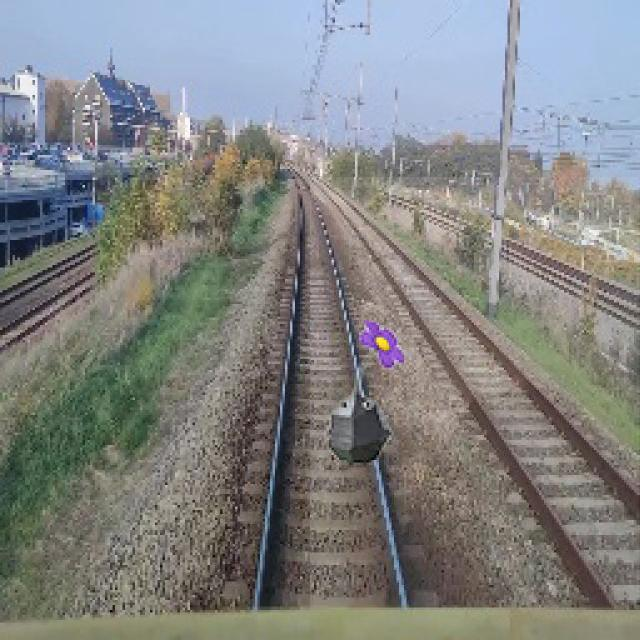rail: (312, 178, 640, 611), (220, 164, 456, 609)
